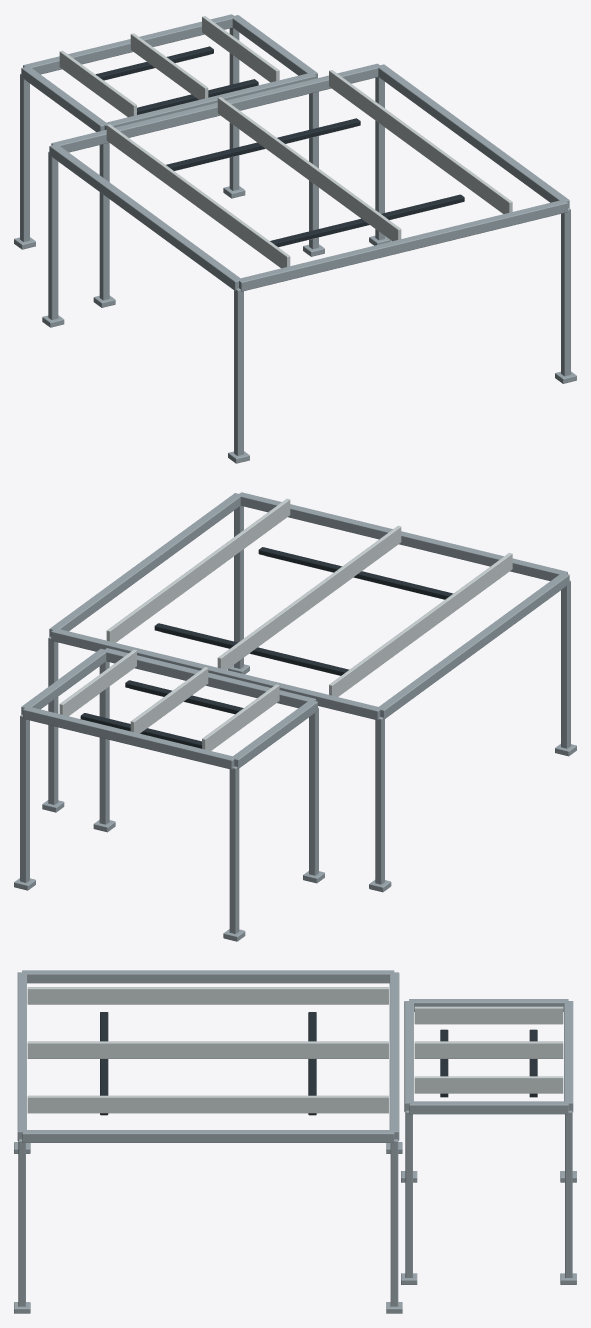
Rendered from SF_E01_Interior.fbx.
3 renders of one model, top to bottom at view 1: azimuth 30°, elevation 25°; view 2: azimuth 150°, elevation 25°; view 3: azimuth 270°, elevation 25°, orthographic.
Parts seen in each view (by area): view 1: SF_E01_Interior; view 2: SF_E01_Interior; view 3: SF_E01_Interior.
Part boxes in pixels (box(x1,y1,x2,y2)): SF_E01_Interior: box(14, 14, 576, 463); SF_E01_Interior: box(14, 492, 576, 941); SF_E01_Interior: box(14, 970, 576, 1313).
Size of the model in its own units: 668 by 352 by 953.
